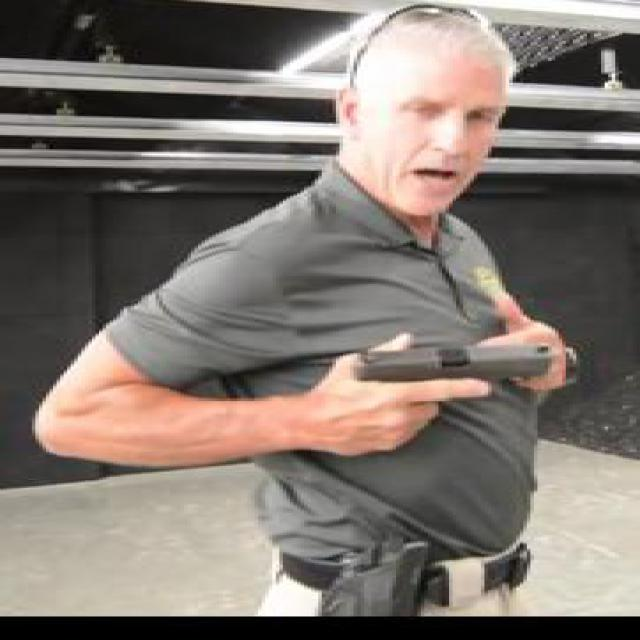Gun: (336, 339, 562, 452)
